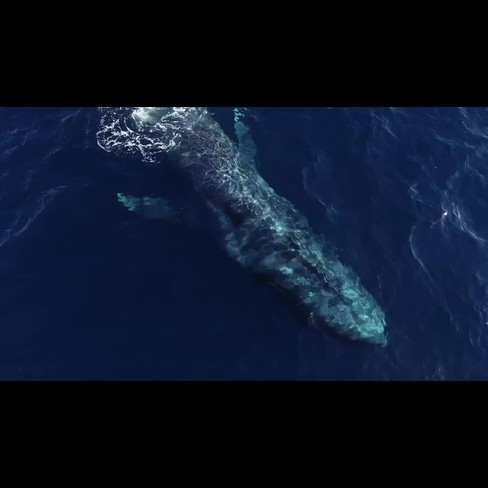bluewhale: (97, 106, 394, 357)
